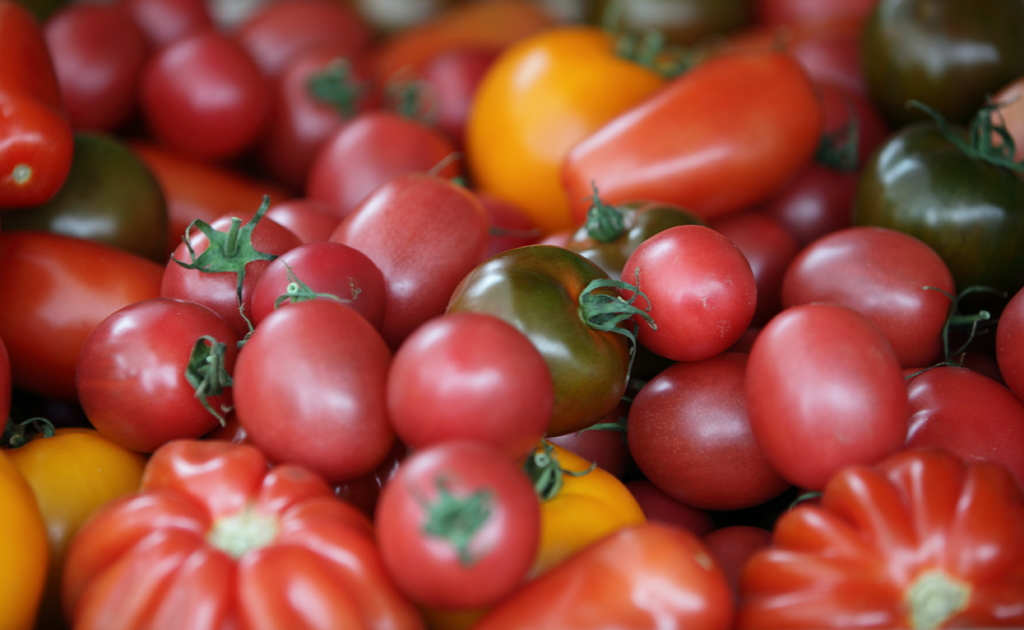Tomato: (472, 28, 692, 230), (443, 246, 650, 436), (744, 302, 907, 489), (236, 296, 386, 482), (376, 440, 540, 608), (332, 175, 498, 339), (76, 293, 238, 457), (0, 233, 161, 393), (616, 357, 784, 507), (387, 312, 557, 458), (784, 223, 954, 360), (309, 86, 458, 220), (621, 222, 758, 356), (163, 197, 302, 328), (262, 41, 380, 184), (519, 447, 640, 580), (146, 27, 267, 157), (251, 237, 392, 337), (39, 2, 146, 124), (0, 90, 71, 207)
